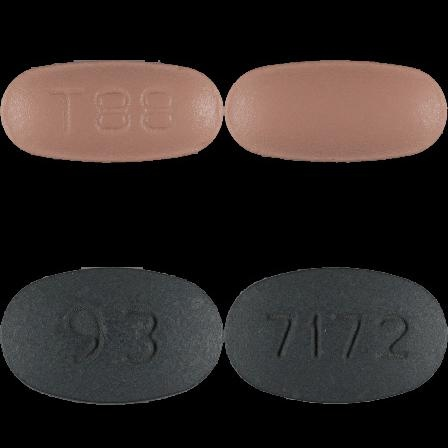50436-0262: (0, 0, 224, 224)
